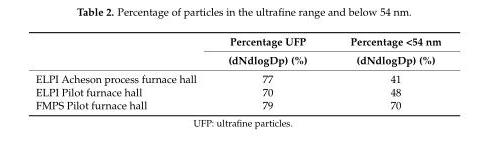table: (35, 34, 440, 111)
table column: (35, 34, 211, 111), (211, 34, 328, 111), (328, 34, 440, 111)
table column header: (35, 34, 440, 69)
table row: (35, 50, 440, 69), (35, 34, 440, 50), (35, 69, 440, 85), (35, 85, 440, 98), (35, 98, 440, 111)
table spanning cell: (211, 34, 328, 69), (328, 34, 440, 69)
